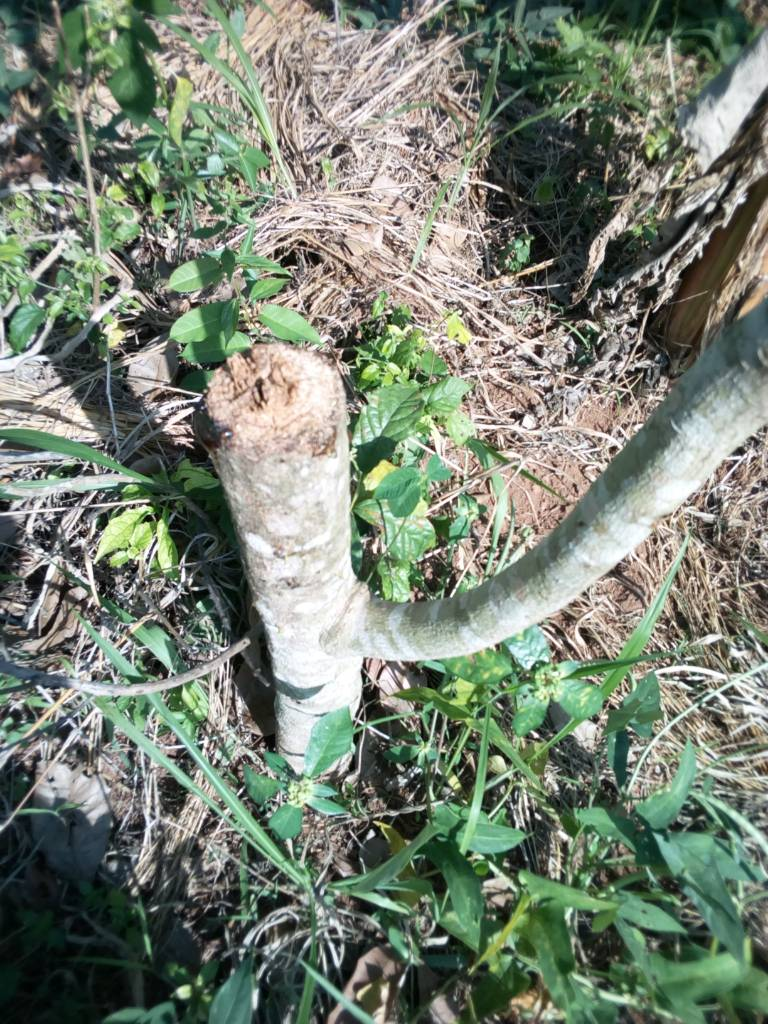Analepse trifasciata: (177, 336, 354, 477)
